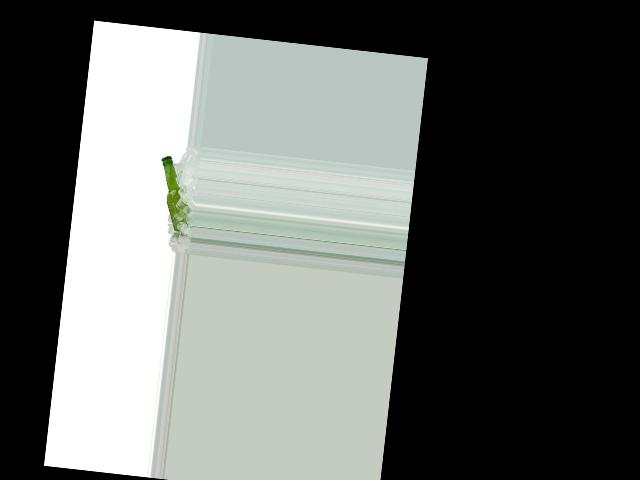beer: (154, 154, 190, 237)
